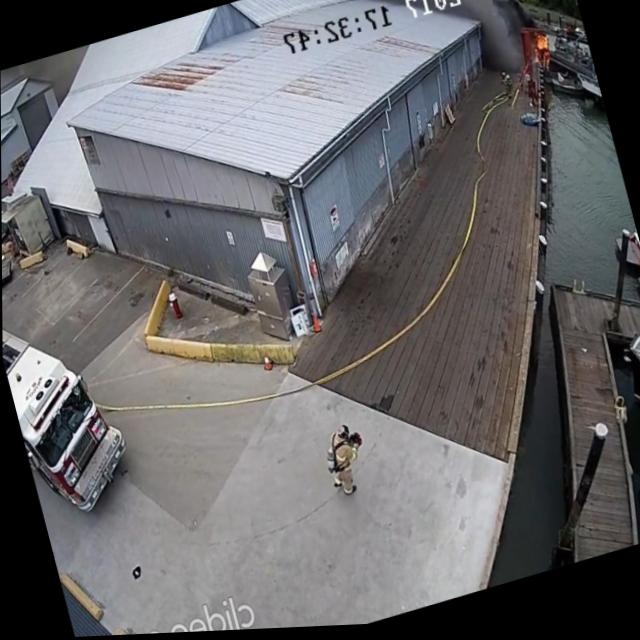fire: (521, 33, 561, 83)
